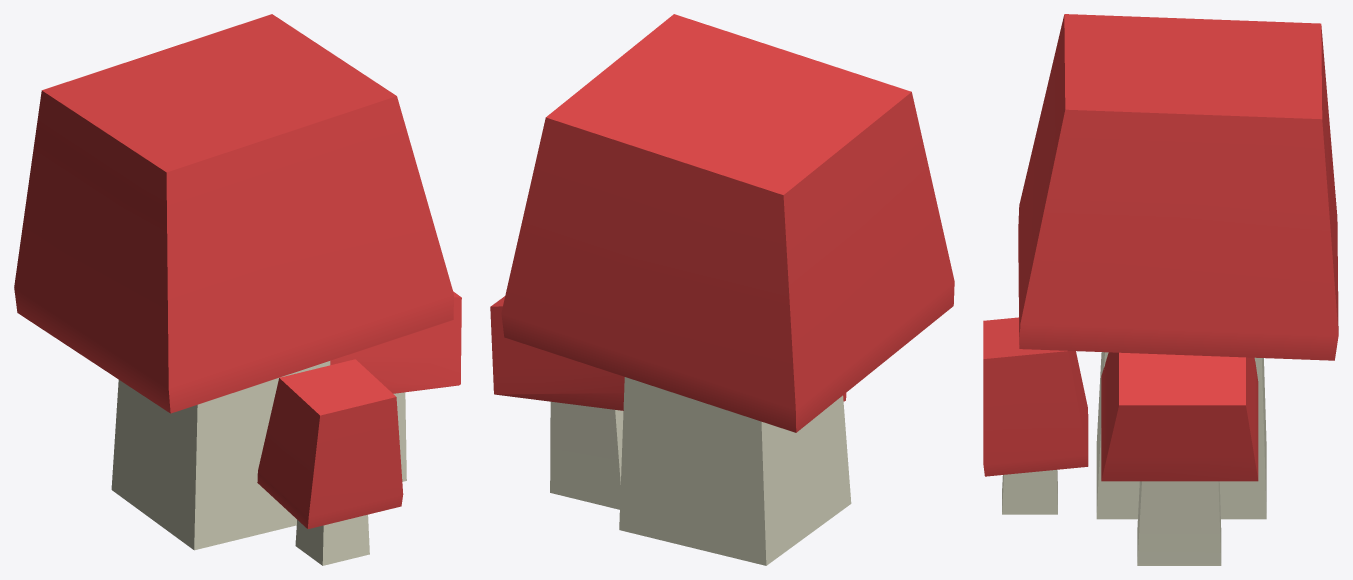
The model's file is shrooms_01.fbx.
3 views of the same model, side by side, from view 1: azimuth 30°, elevation 25°; view 2: azimuth 150°, elevation 25°; view 3: azimuth 270°, elevation 25° (orthographic). The views are drawn at different scales.
Visible parts, largest first — view 1: pCube2, pCube1, pCube6, polySurface2, pCube7, polySurface1; view 2: pCube2, pCube1, polySurface1, polySurface2; view 3: pCube2, polySurface2, pCube6, polySurface1, pCube1, pCube7.
Part boxes in pixels (box(x1,y1,x2,y2)): pCube2: box(14, 14, 453, 413); pCube1: box(111, 361, 330, 550); pCube6: box(257, 359, 403, 528); polySurface2: box(330, 291, 461, 393); pCube7: box(295, 514, 369, 565); polySurface1: box(393, 392, 406, 481); pCube2: box(501, 14, 954, 432); pCube1: box(619, 377, 851, 565); polySurface1: box(550, 401, 623, 509); polySurface2: box(490, 296, 624, 410); pCube2: box(1018, 14, 1338, 360); polySurface2: box(1101, 352, 1258, 481); pCube6: box(983, 317, 1088, 476); polySurface1: box(1137, 481, 1221, 565); pCube1: box(1096, 352, 1266, 519); pCube7: box(1002, 470, 1057, 514).
Bounding box in the file's own units: 28.79 × 33.97 × 25.18.
